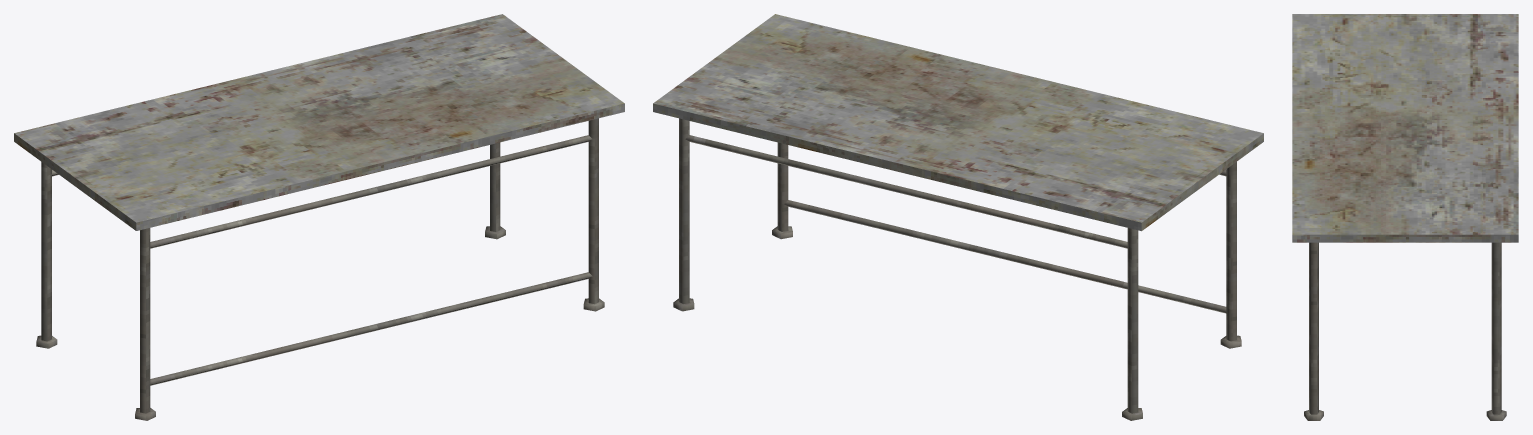
File: _Table_1.FBX
3 renders of one model, left to right at view 1: azimuth 30°, elevation 25°; view 2: azimuth 150°, elevation 25°; view 3: azimuth 270°, elevation 25°, orthographic. The views are drawn at different scales.
Parts seen in each view (by area): view 1: _Table_1; view 2: _Table_1; view 3: _Table_1.
Boxes of the visible parts, x1,y1,x2,y2 form: _Table_1: (14, 14, 624, 420); _Table_1: (653, 14, 1263, 420); _Table_1: (1292, 14, 1518, 420).
Bounding box in the file's own units: 150 × 60.78 × 65.
2 materials, 2 textured.
